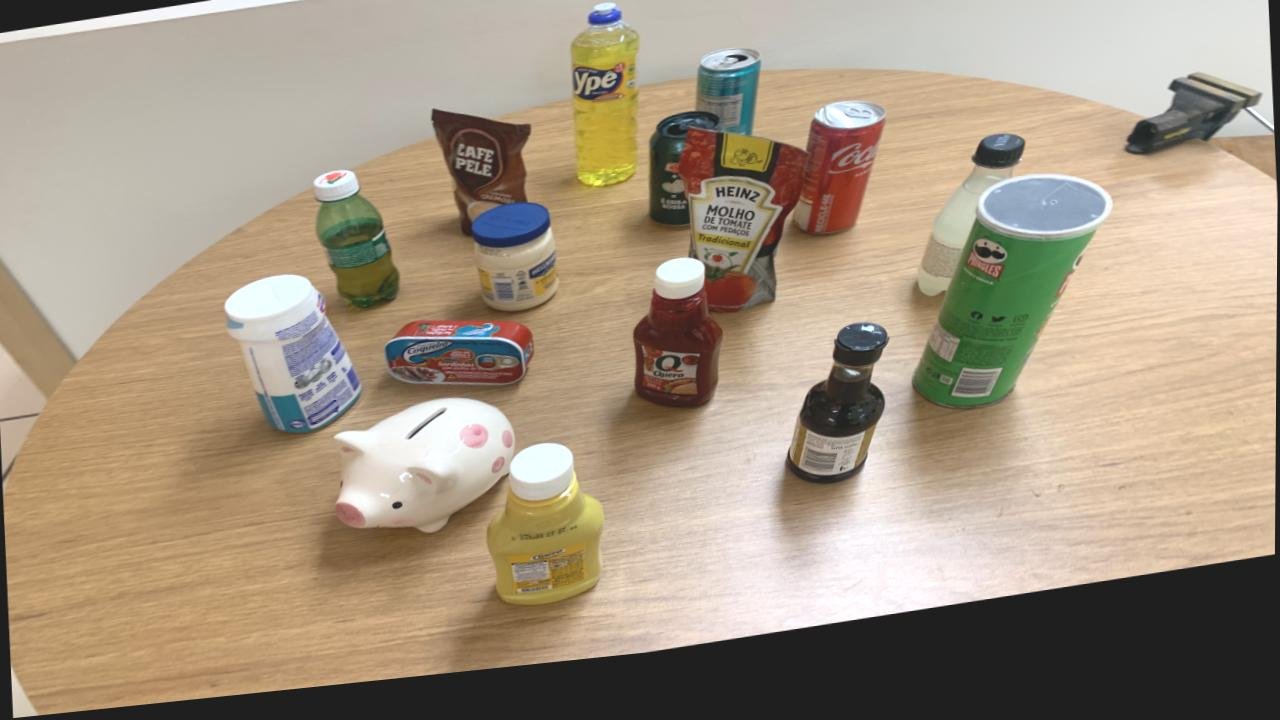Cleaner-Cleanup_Items: (226, 281, 361, 440)
Coffee-Pantry_Items: (431, 119, 530, 245)
Coke-Drinks: (793, 119, 886, 253)
Detergent-Cleanup_Items: (571, 15, 639, 199)
English_Sauce-Pantry_Items: (787, 341, 889, 501)
Guarana-Drinks: (313, 177, 399, 316)
Guarana_Can-Drinks: (648, 125, 721, 241)
Ketchup-Pantry_Items: (634, 273, 723, 423)
Mayonnaise-Pantry_Items: (471, 213, 559, 323)
Mustard-Pantry_Items: (488, 455, 606, 617)
Pig_Safe-Miscellaneous: (335, 408, 515, 542)
Pringles-Snacks: (913, 196, 1112, 429)
Soda-Drinks: (919, 155, 1024, 317)
Tea-Drinks: (695, 64, 761, 152)
Tomato_Sauce-Pantry_Items: (675, 143, 808, 329)
Tuna_Can-Pantry_Items: (384, 329, 535, 396)
